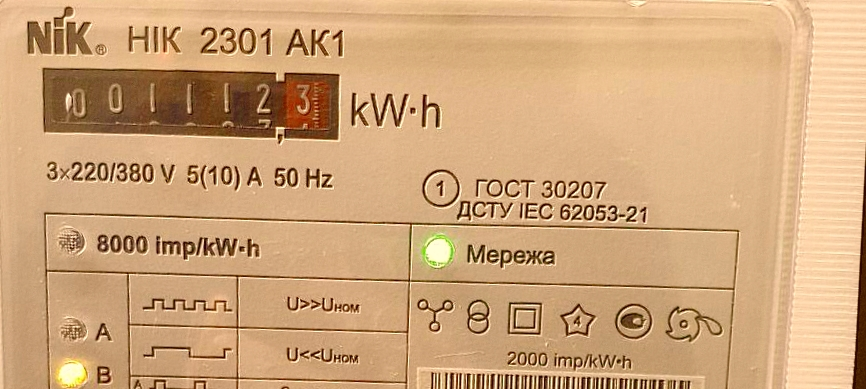0: (103, 79, 127, 118), (67, 84, 91, 120)
1: (142, 78, 162, 117), (180, 79, 196, 118), (218, 79, 234, 117)
2: (251, 81, 275, 118)
3: (292, 82, 312, 118)
screen: (32, 55, 349, 153)
